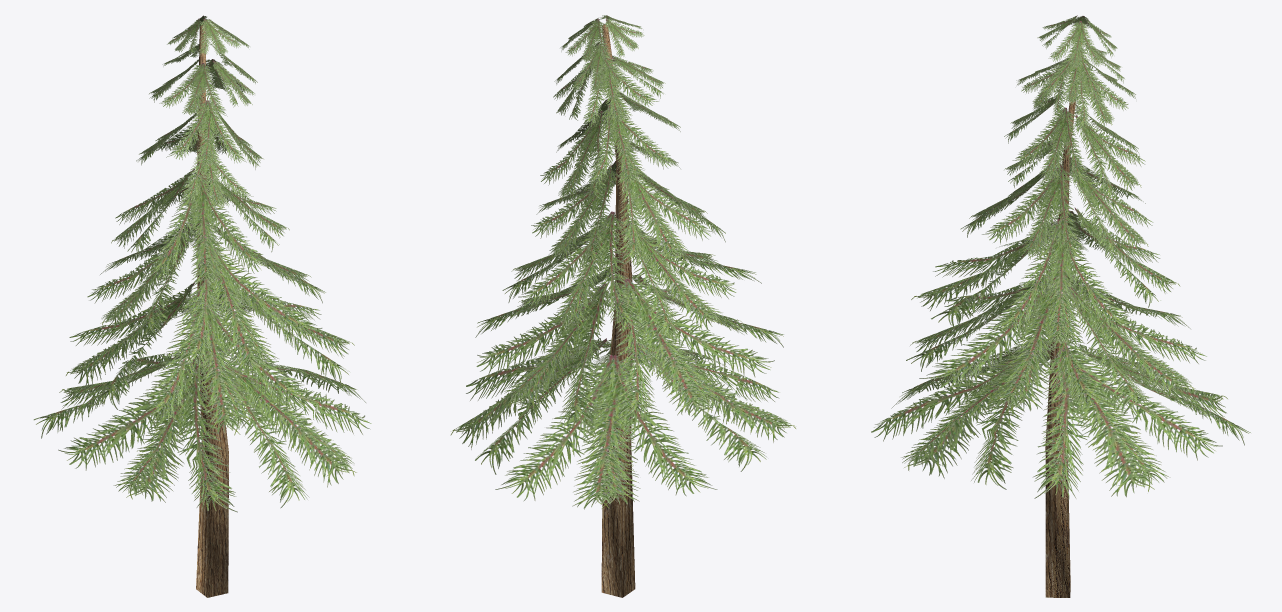
File: VEG0210004.fbx
The picture shows the model from 3 angles, left to right: view 1: azimuth 30°, elevation 25°; view 2: azimuth 150°, elevation 25°; view 3: azimuth 270°, elevation 25°; orthographic projection. The views are drawn at different scales.
Parts seen in each view (by area): view 1: smVEG0210004; view 2: smVEG0210004; view 3: smVEG0210004.
Boxes of the visible parts, x1,y1,x2,y2 form: smVEG0210004: (33, 15, 371, 597); smVEG0210004: (450, 15, 795, 597); smVEG0210004: (871, 15, 1250, 597).
Bounding box in the file's own units: 357 × 605 × 391.
Materials: 1 (1 with a texture image).
